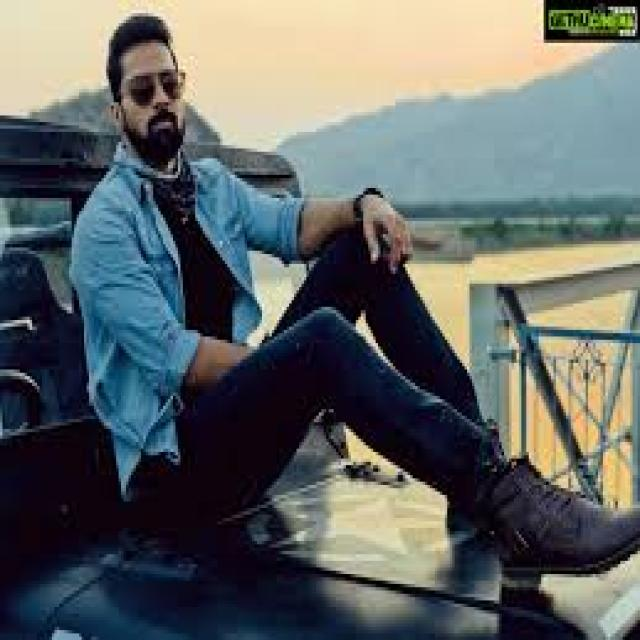person-without-mask: (31, 12, 501, 624)
